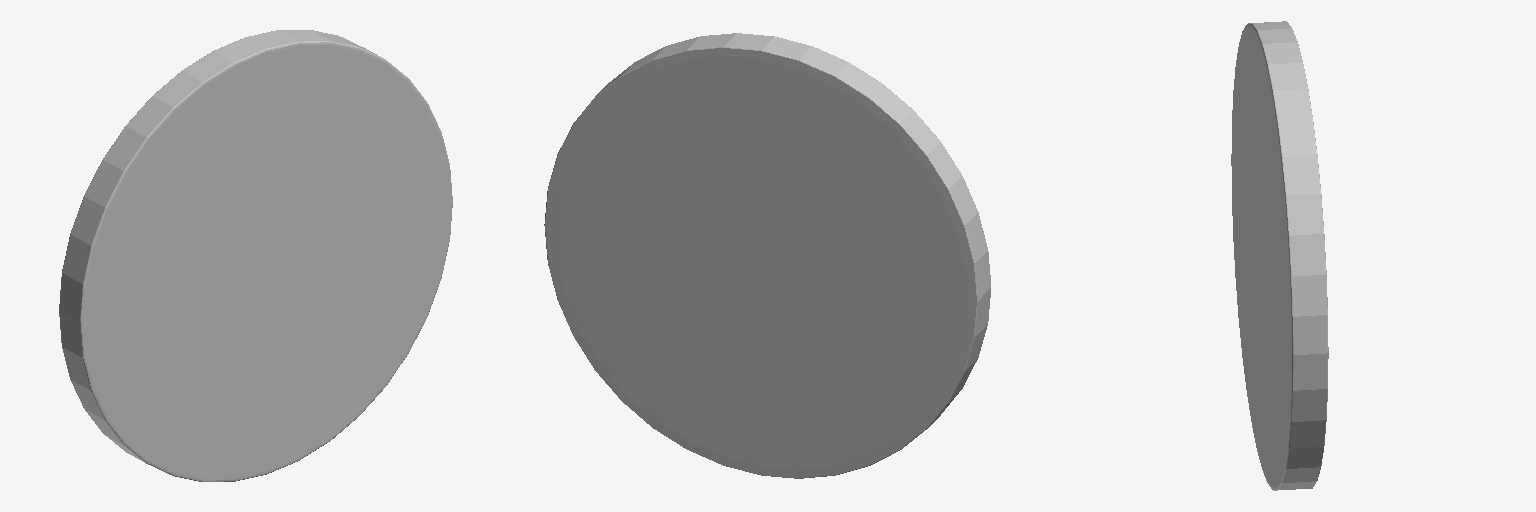
File: uploads_files_4304868_coin.obj
3 renders of one model, left to right at view 1: azimuth 30°, elevation 25°; view 2: azimuth 150°, elevation 25°; view 3: azimuth 270°, elevation 25°, orthographic.
Visible parts, largest first — view 1: polySurface5 Crown4; view 2: polySurface5 Crown4; view 3: polySurface5 Crown4.
Boxes of the visible parts, <box> form: polySurface5 Crown4: <box>59,30,452,481</box>; polySurface5 Crown4: <box>544,33,990,478</box>; polySurface5 Crown4: <box>1231,21,1328,490</box>.
Size of the model in its own units: 4.81 by 4.81 by 0.9942.